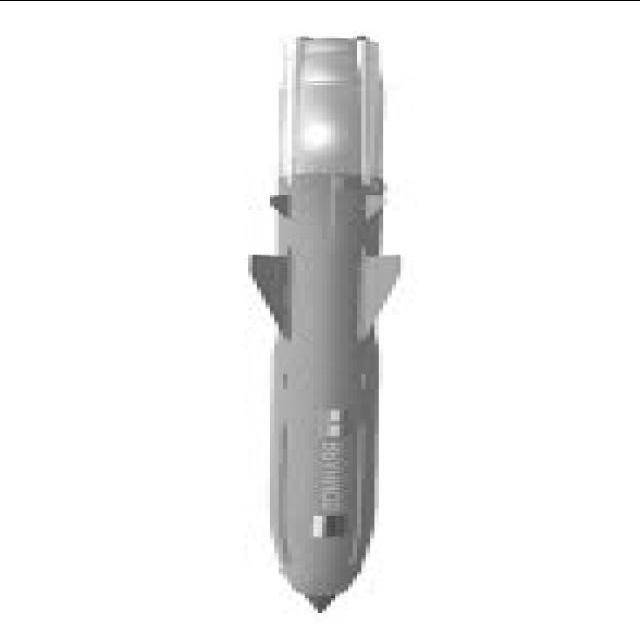missile: (230, 31, 408, 611)
